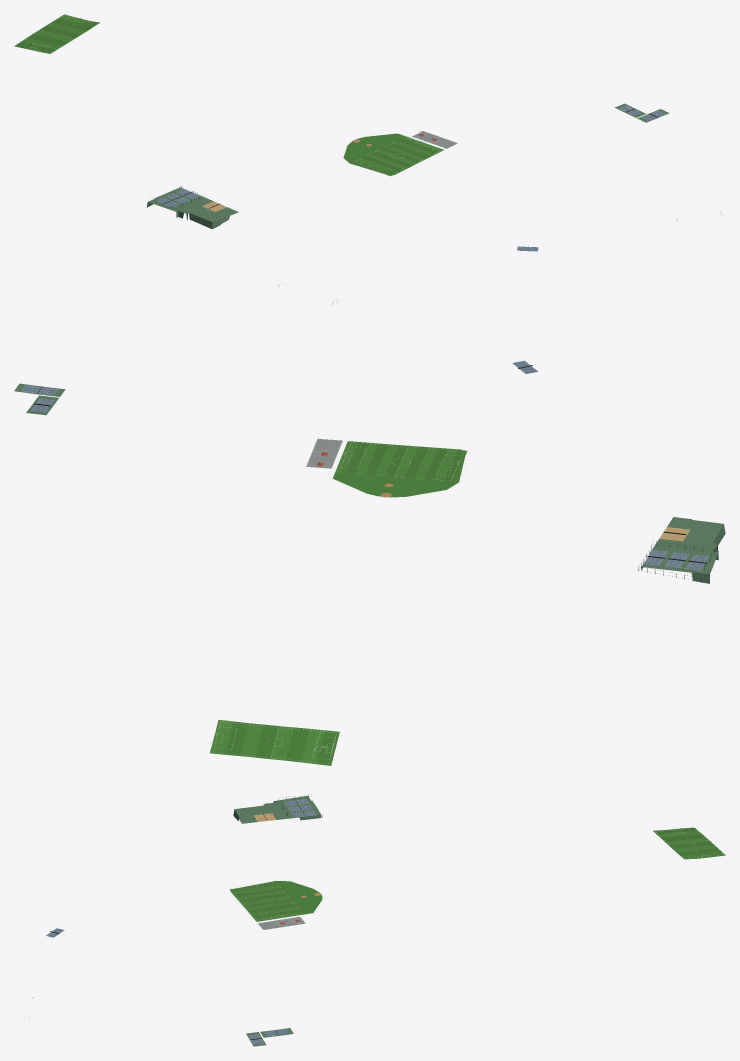
3 views of the same model, one above another, from view 1: azimuth 30°, elevation 25°; view 2: azimuth 150°, elevation 25°; view 3: azimuth 270°, elevation 25° (orthographic). The views are drawn at different scales.
Visible parts, largest first — view 1: sports-field, sports-tennis, sports-w1499898224; view 2: sports-field, sports-w1499898224, sports-tennis, sports-basketball; view 3: sports-field, sports-tennis, sports-w1499898224.
Part boxes in pixels (x1,y1,x2,y2): sports-field: [342, 132, 445, 176]; sports-tennis: [146, 186, 238, 229]; sports-w1499898224: [14, 14, 99, 53]; sports-field: [330, 440, 469, 498]; sports-w1499898224: [210, 719, 339, 765]; sports-tennis: [638, 517, 725, 583]; sports-basketball: [306, 438, 342, 468]; sports-field: [229, 880, 323, 921]; sports-tennis: [233, 794, 322, 823]; sports-w1499898224: [653, 827, 725, 859].
Bounding box in the file's own units: 589 × 27.02 × 740.
